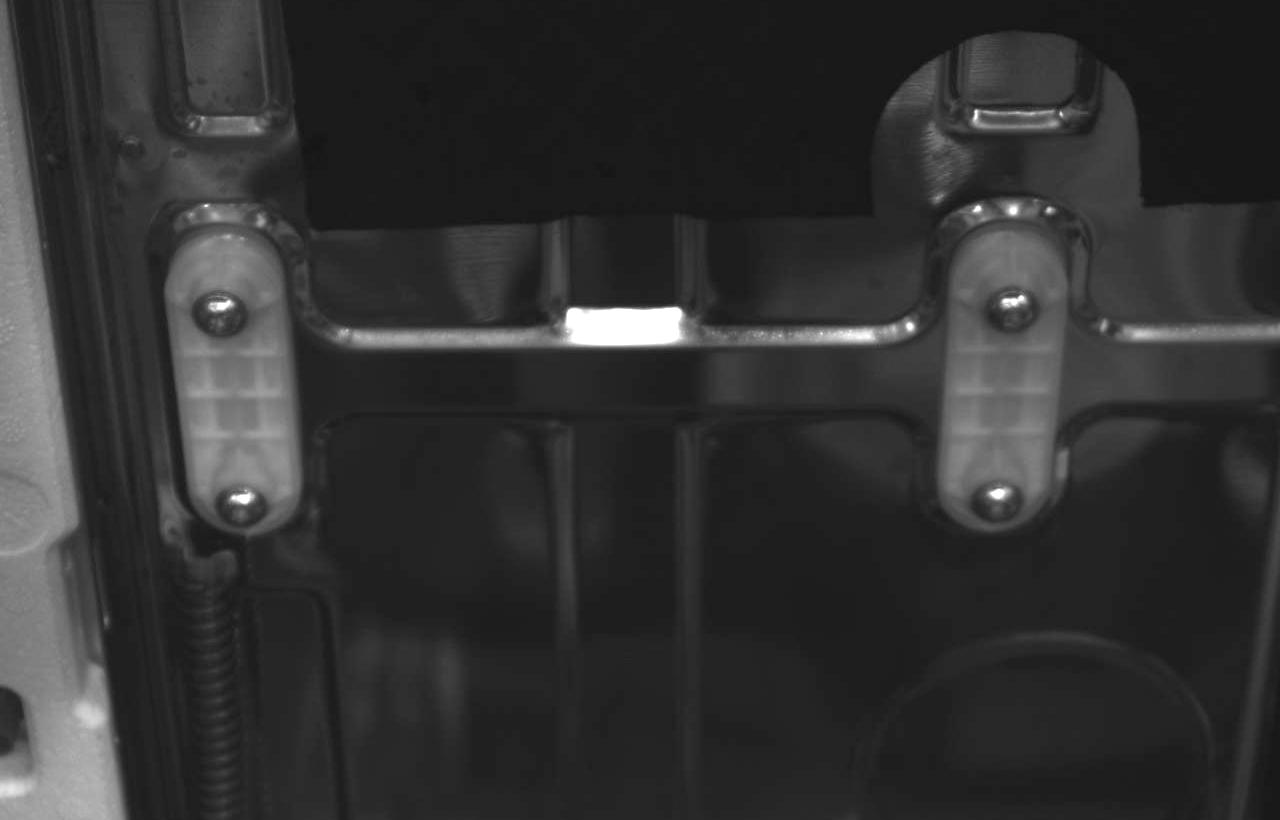vida-ok: (189, 285, 260, 352), (970, 465, 1036, 534), (977, 277, 1044, 344), (209, 481, 274, 539)
